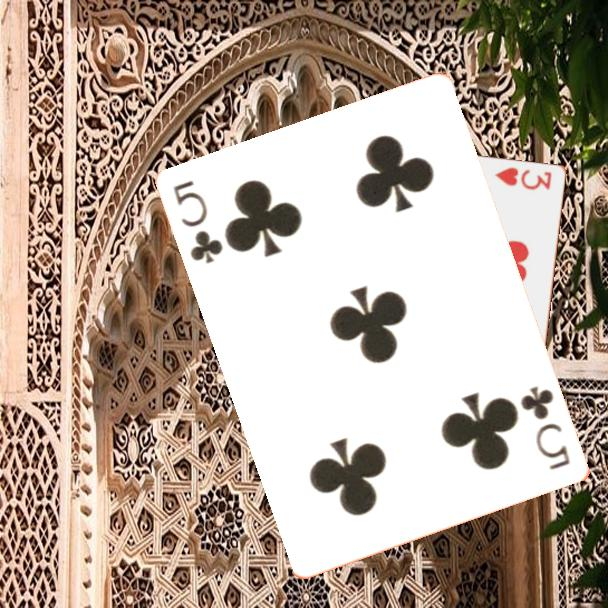c05: (517, 382, 574, 473), (170, 177, 227, 267)
h03: (492, 163, 555, 192)
